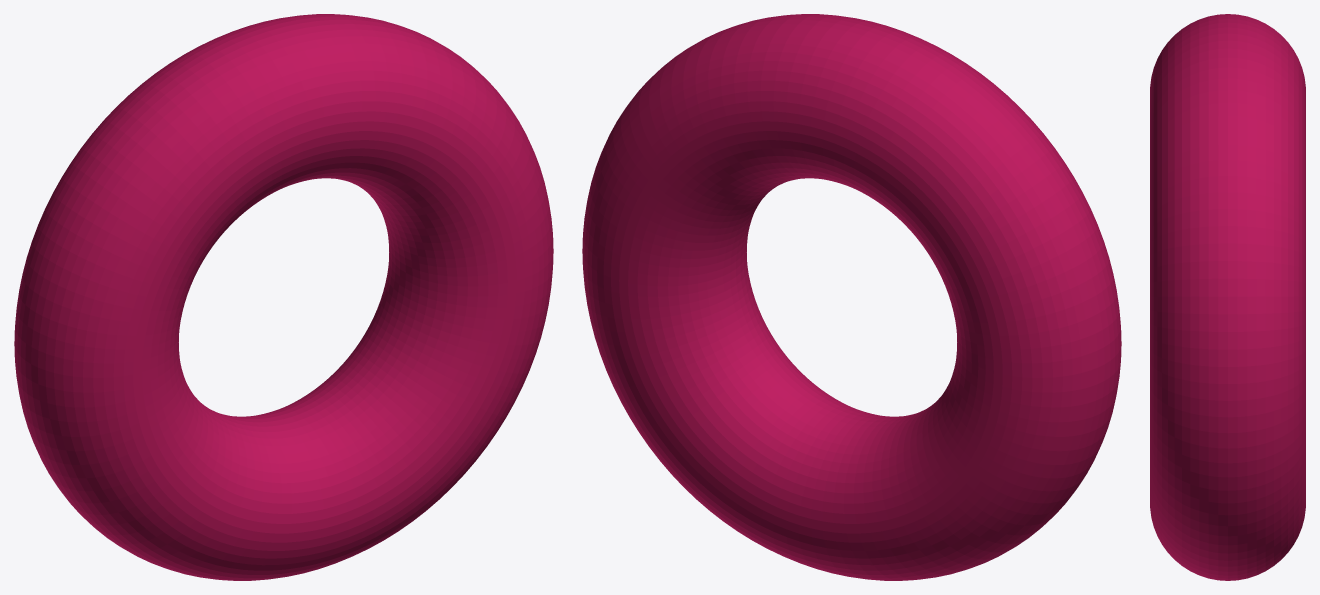
The picture shows the model from 3 angles, left to right: view 1: azimuth 30°, elevation 25°; view 2: azimuth 150°, elevation 25°; view 3: azimuth 270°, elevation 25°; orthographic projection. The views are drawn at different scales.
Parts seen in each view (by area): view 1: world; view 2: world; view 3: world.
Part boxes in pixels (x1=…): world: x1=14, y1=14, x2=553, y2=580; world: x1=582, y1=14, x2=1121, y2=580; world: x1=1150, y1=14, x2=1305, y2=580.
Size of the model in its own units: 27.6 by 27.6 by 7.59.
